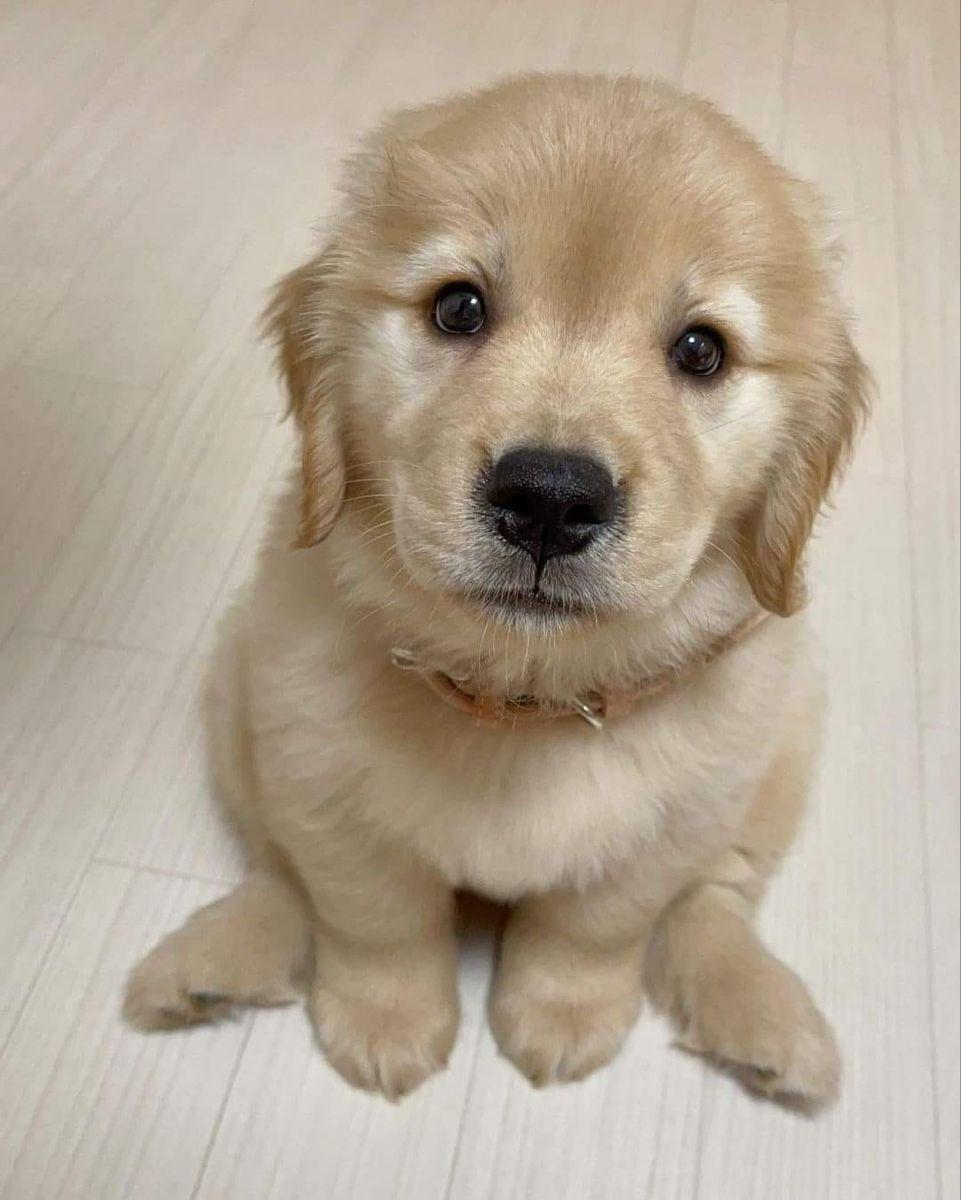puppy-dog: (118, 70, 877, 1123)
